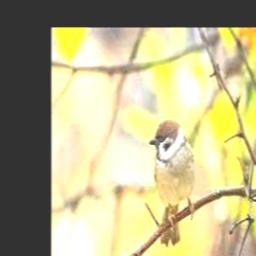Sparrow: (150, 122, 194, 244)
